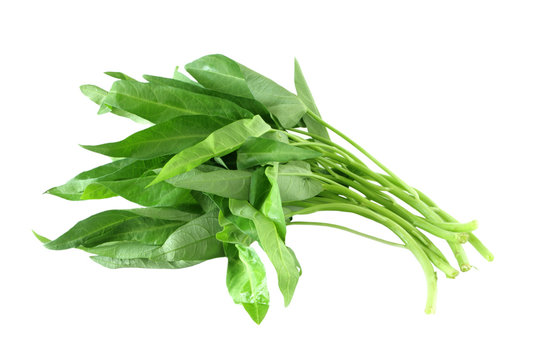Kangkung: (62, 52, 483, 323)
